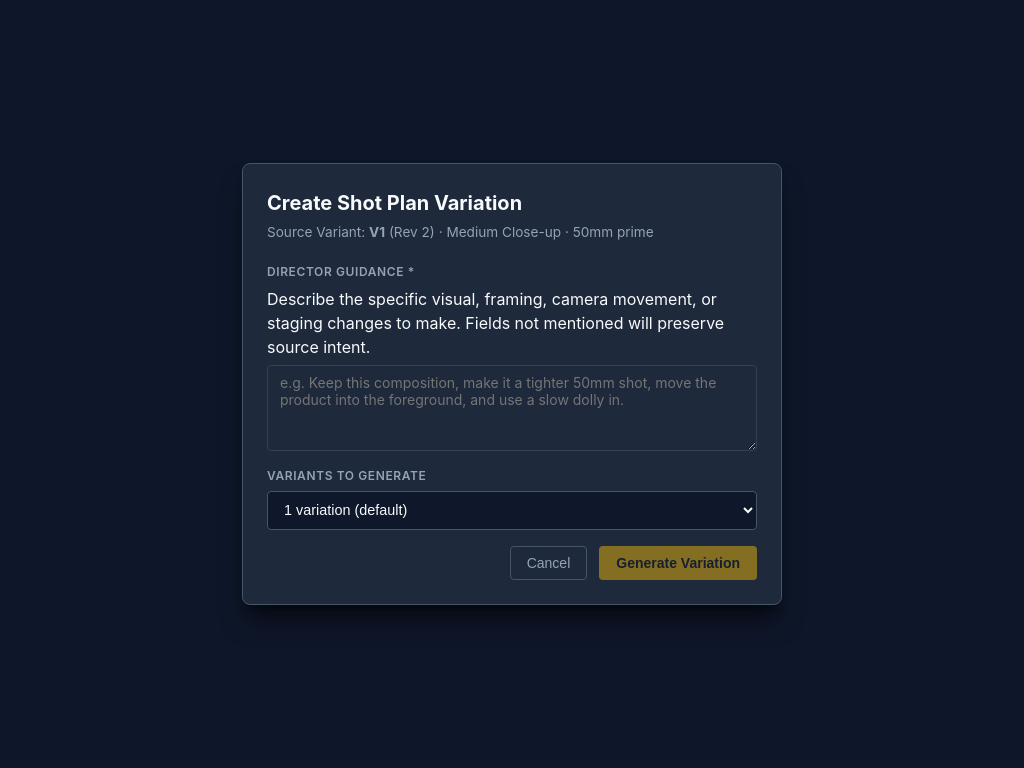
Test case: ShotPlanVariationModal › surfaces configuration error (503)
Replace the text in the text box with test id "variation-guidance-input" with "Tighter shot": (512, 408) [267, 365, 757, 451]
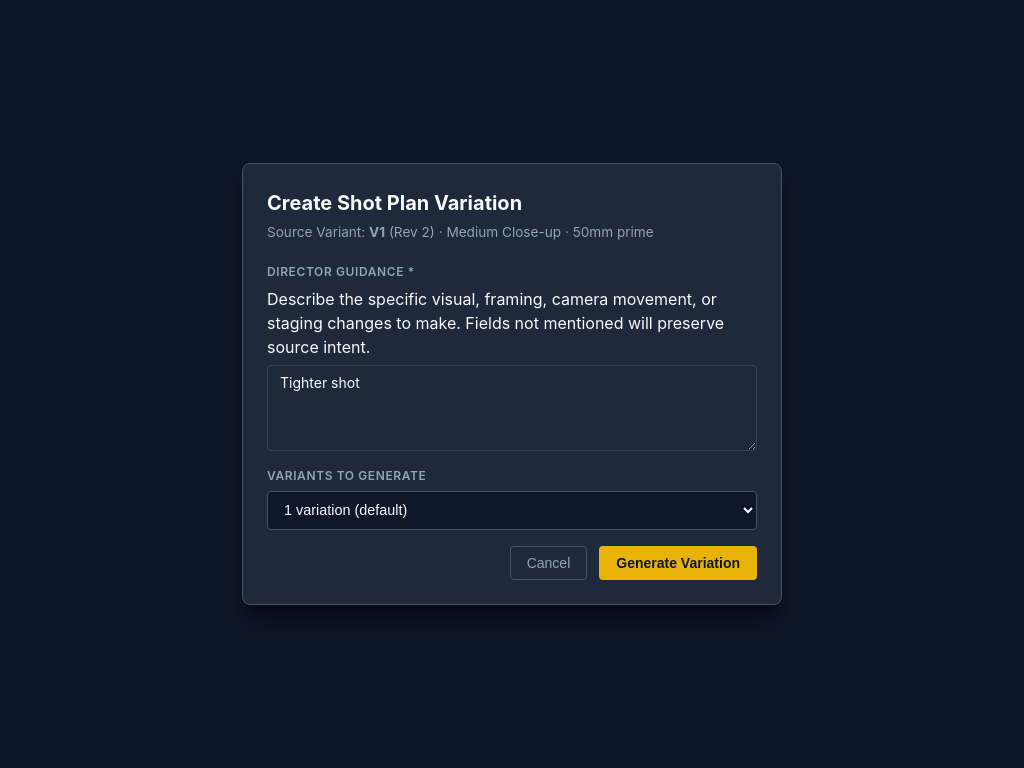
Click the button with test id "submit-variation-button": (678, 563) [599, 546, 757, 580]
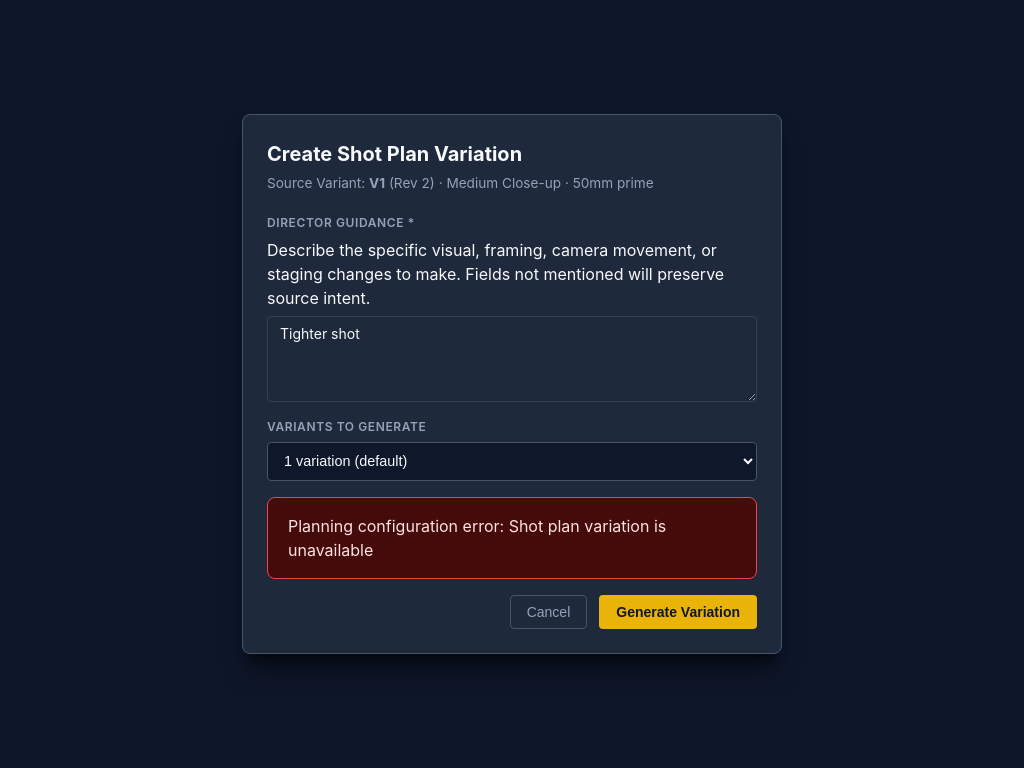
Expected: the message with test id "variation-error-message" shows "Planning configuration error", [288, 516, 666, 560]
